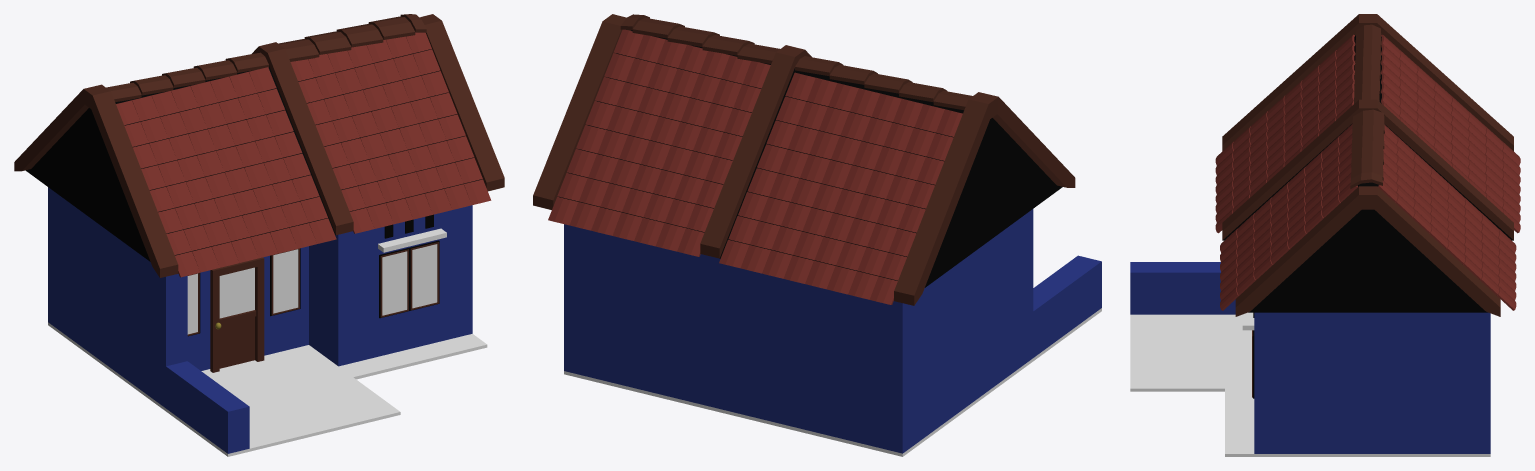
Rendered from rumah npc 1 FIX.fbx.
3 views of the same model, side by side, from view 1: azimuth 30°, elevation 25°; view 2: azimuth 150°, elevation 25°; view 3: azimuth 270°, elevation 25° (orthographic). The views are drawn at different scales.
Visible parts, largest first — view 1: Plane, Plane.007, Plane.010, Plane.020, Plane.008, Plane.009, Plane.005, Plane.011, Plane.013, Plane.012, Plane.014, Plane.002 (+5 smaller); view 2: Plane, Plane.007, Plane.010, Plane.008, Plane.009, Plane.011, Plane.013, Plane.002, Plane.014, Plane.020; view 3: Plane, Plane.007, Plane.010, Plane.008, Plane.020, Plane.013, Plane.011, Plane.009, Plane.014, Plane.002.
Boxes of the visible parts, x1,y1,x2,y2 form: Plane: (48, 187, 472, 453); Plane.007: (116, 67, 336, 277); Plane.010: (290, 32, 491, 233); Plane.020: (48, 322, 487, 456); Plane.008: (25, 49, 481, 261); Plane.009: (14, 84, 178, 277); Plane.005: (210, 257, 264, 372); Plane.011: (252, 42, 353, 235); Plane.013: (419, 14, 504, 191); Plane.012: (382, 244, 437, 315); Plane.014: (278, 14, 426, 61); Plane.002: (106, 52, 268, 102); Plane: (564, 209, 1101, 453); Plane.007: (719, 72, 962, 304); Plane.010: (548, 29, 770, 256); Plane.008: (559, 30, 1062, 287); Plane.009: (894, 92, 1075, 305); Plane.011: (700, 45, 811, 258); Plane.013: (533, 14, 631, 209); Plane.002: (795, 56, 972, 110); Plane.014: (620, 14, 779, 63); Plane.020: (564, 308, 1101, 456); Plane: (1130, 262, 1490, 453); Plane.007: (1215, 34, 1520, 233); Plane.010: (1220, 124, 1516, 310); Plane.008: (1222, 35, 1513, 312); Plane.020: (1130, 314, 1490, 456); Plane.013: (1235, 186, 1500, 316); Plane.011: (1222, 99, 1513, 239); Plane.009: (1222, 14, 1513, 151); Plane.014: (1350, 109, 1384, 188); Plane.002: (1354, 24, 1381, 103).
Bounding box in the file's own units: 1710 × 1315 × 1644.
